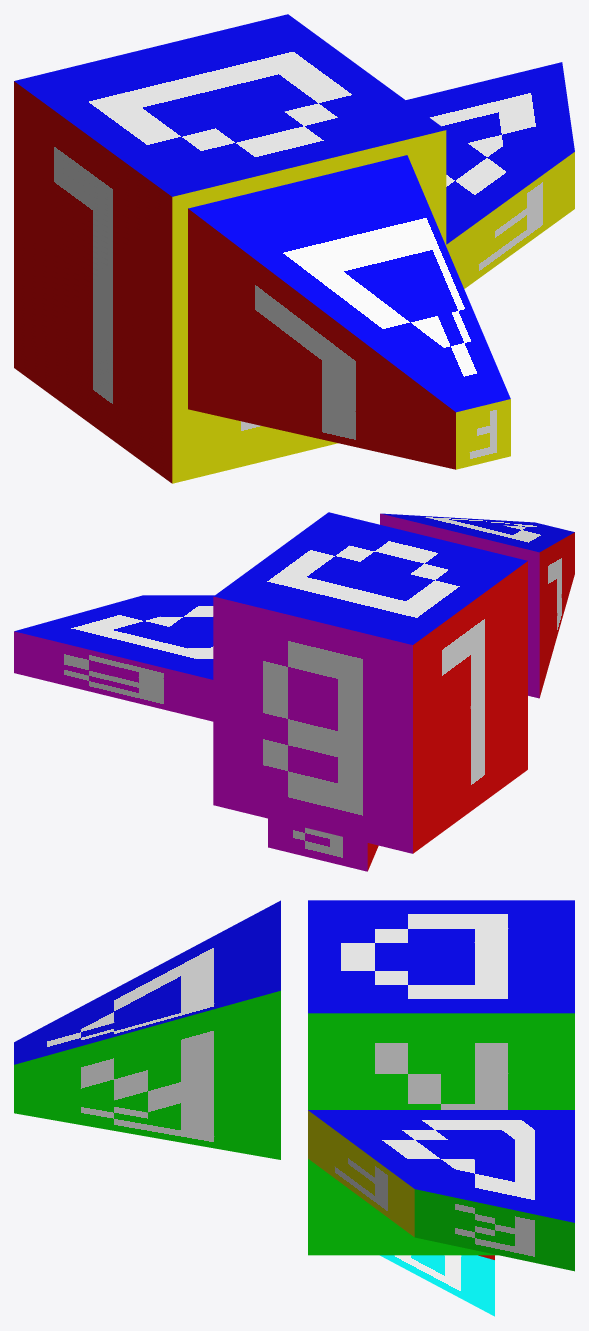
The model's file is thing1+z-y.obj.
3 renders of one model, top to bottom at view 1: azimuth 30°, elevation 25°; view 2: azimuth 150°, elevation 25°; view 3: azimuth 270°, elevation 25°, orthographic. The views are drawn at different scales.
Parts seen in each view (by area): view 1: Cube; view 2: Cube; view 3: Cube.
Boxes of the visible parts, bbox=[...] form: Cube: bbox=[14, 14, 574, 483]; Cube: bbox=[14, 512, 574, 871]; Cube: bbox=[14, 900, 574, 1316].
Size of the model in its own units: 1 by 0.65 by 1.05.
1 material, 1 textured.
